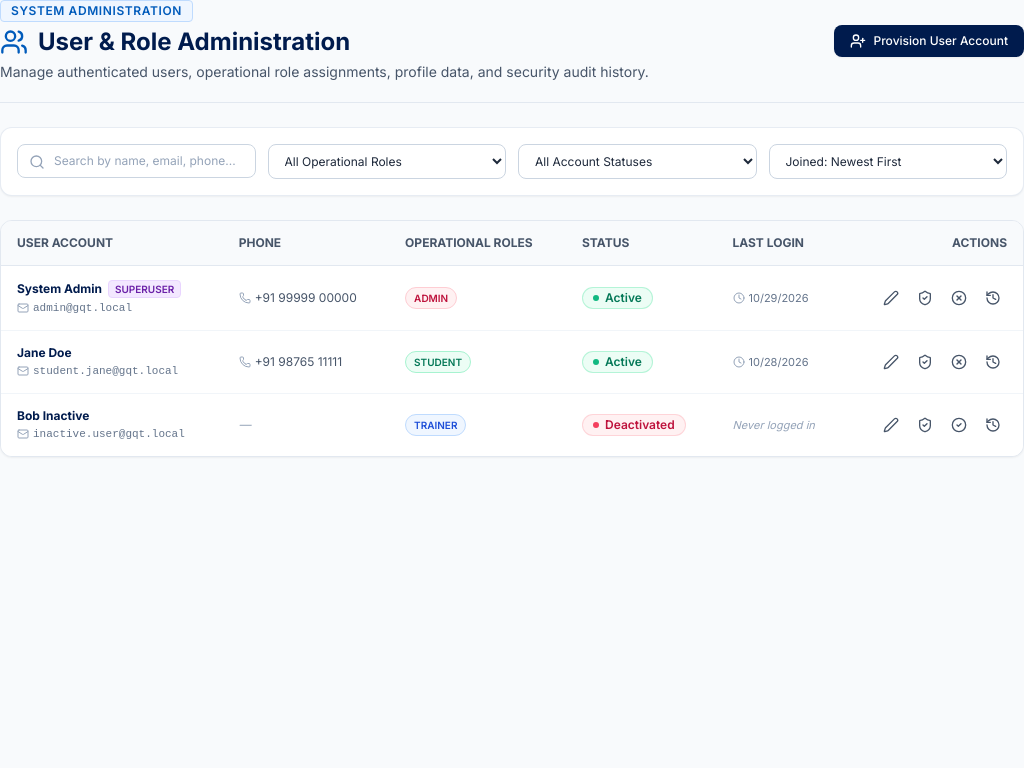
Test case: UserManagementPage — Phase 15 Workstream 2 Verification › opens edit profile modal and submits updated details
Expected: the text "student.jane@gqt.local" is shown, [17,363,207,379]
Click edit button for Jane
Click the button named "Edit student.jane@gqt.local": (891, 362) [877,348,905,376]
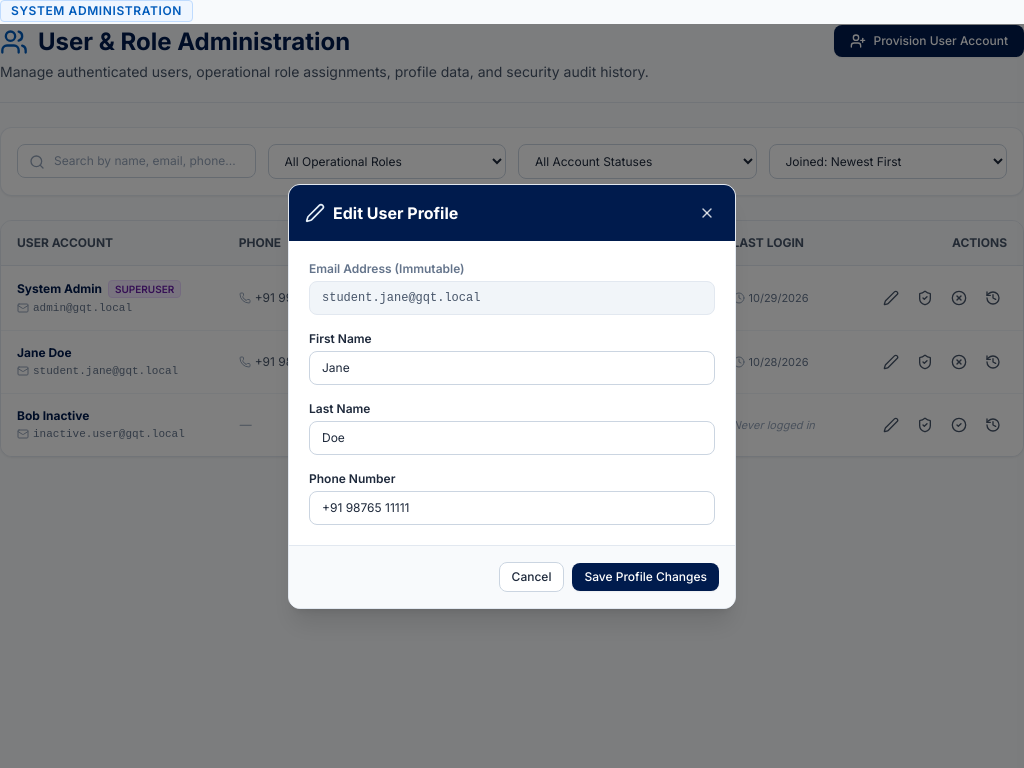
Expected: the heading "Edit User Profile" is shown, [333,200,458,224]
Change first name
Replace the text in the field showing "Jane" below "First Name" with "Janet": (512, 368) [309,350,715,384]
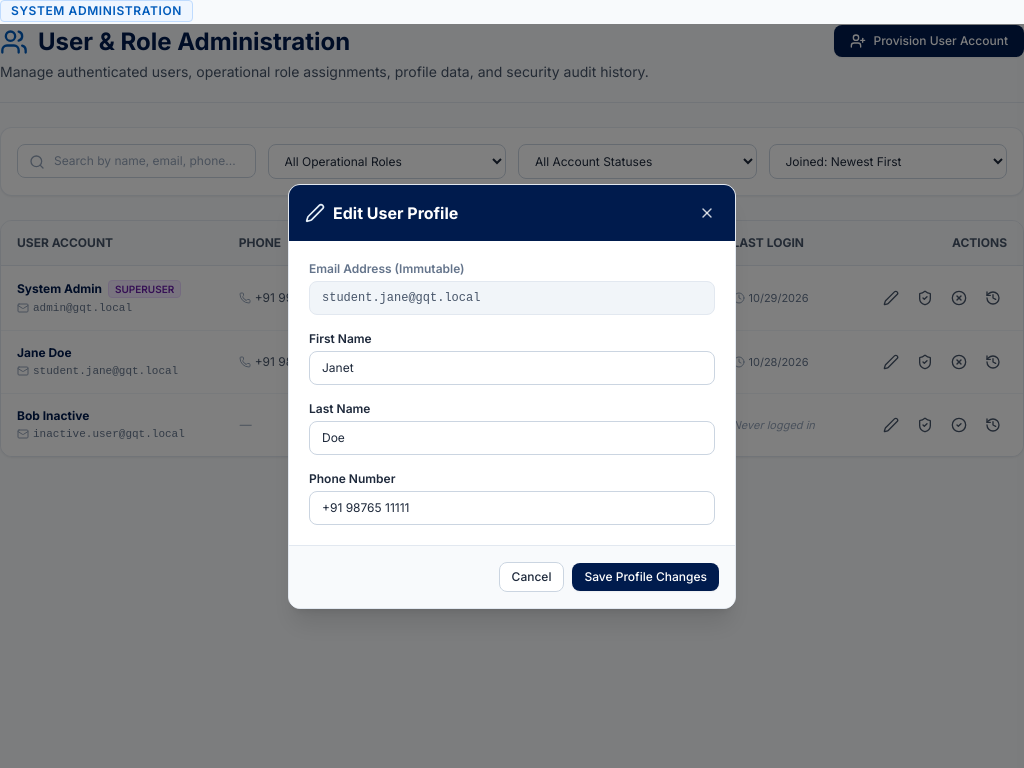
Click the button "Save Profile Changes": (646, 576) [572,562,719,590]
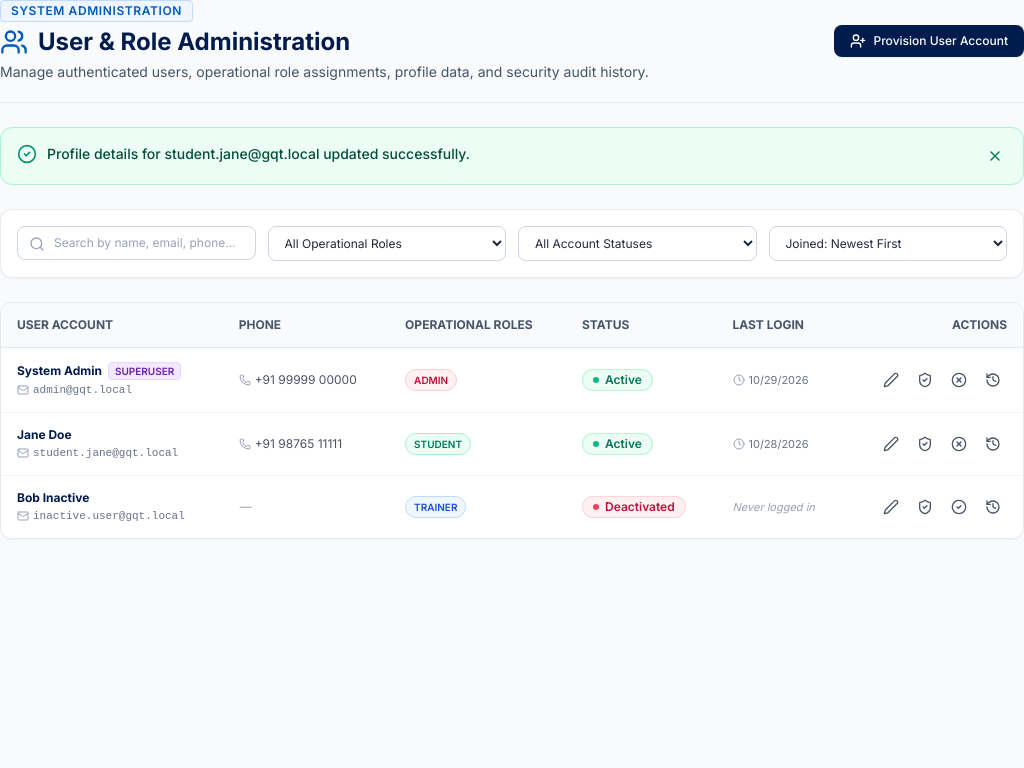
Expected: the text "updated successfully" is shown, [47,145,470,162]
